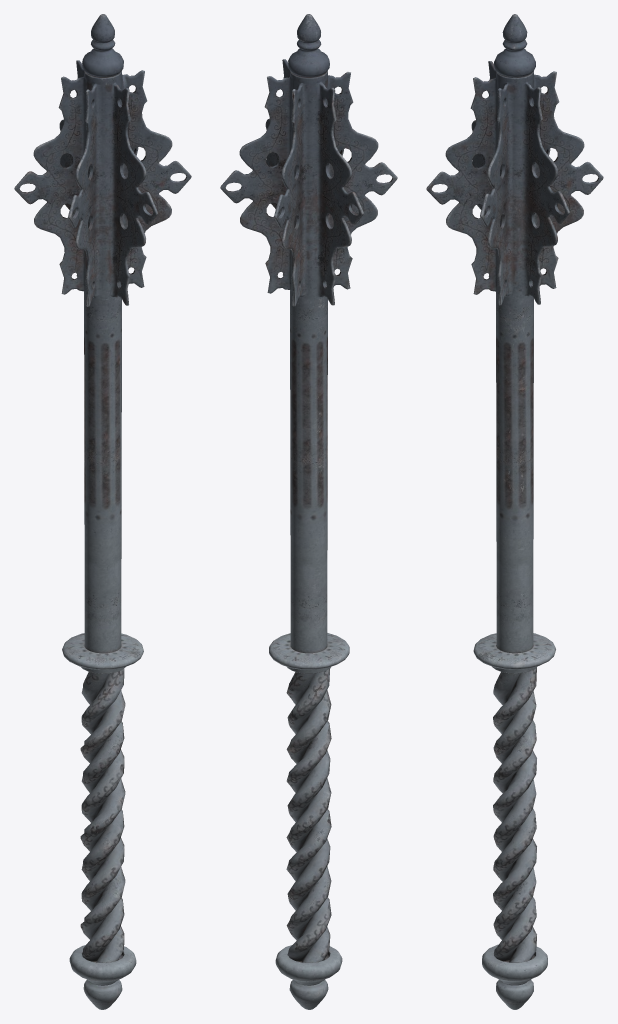
Rendered from ornate_medieval_mace.gltf.
The picture shows the model from 3 angles, left to right: view 1: azimuth 30°, elevation 25°; view 2: azimuth 150°, elevation 25°; view 3: azimuth 270°, elevation 25°; orthographic projection.
Parts seen in each view (by area): view 1: ornate_medieval_mace; view 2: ornate_medieval_mace; view 3: ornate_medieval_mace.
Boxes of the visible parts, left/top/right/bottom form: ornate_medieval_mace: left=14, top=14, right=191, bottom=1009; ornate_medieval_mace: left=220, top=14, right=397, bottom=1009; ornate_medieval_mace: left=426, top=14, right=603, bottom=1009.
Size of the model in its own units: 0.0949 by 0.63 by 0.1017.
Materials: 1 (1 with a texture image).
